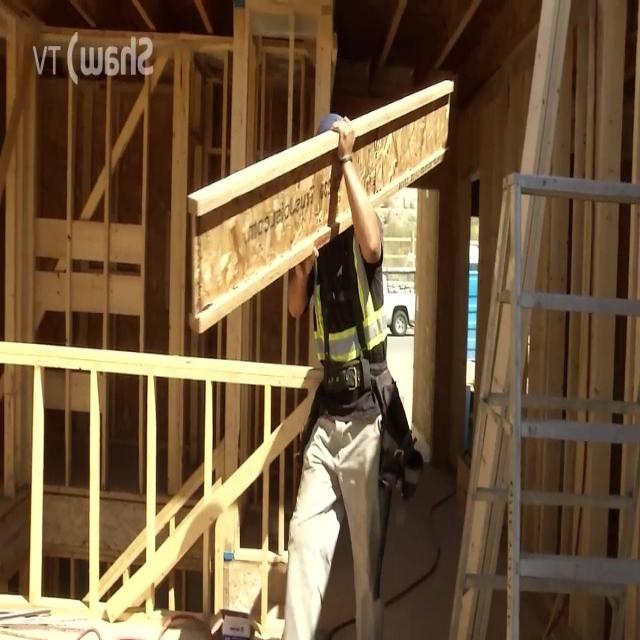Reflective-Jacket: (304, 217, 392, 411)
